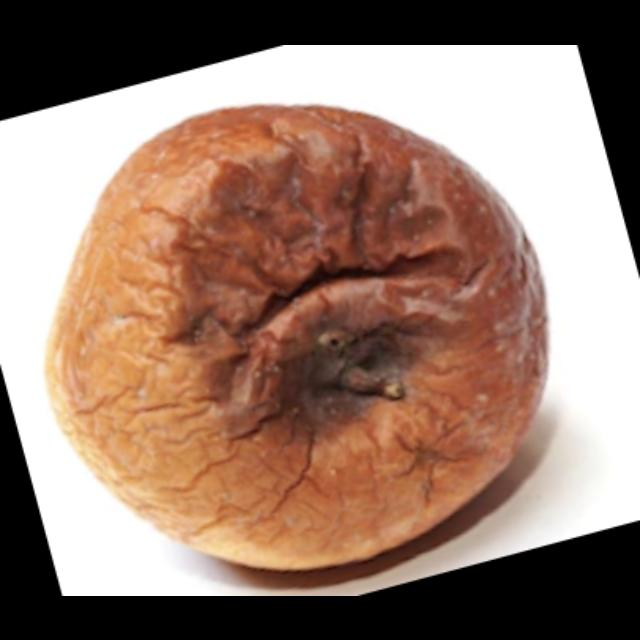Apel Tidak Segar: (12, 78, 624, 590)
